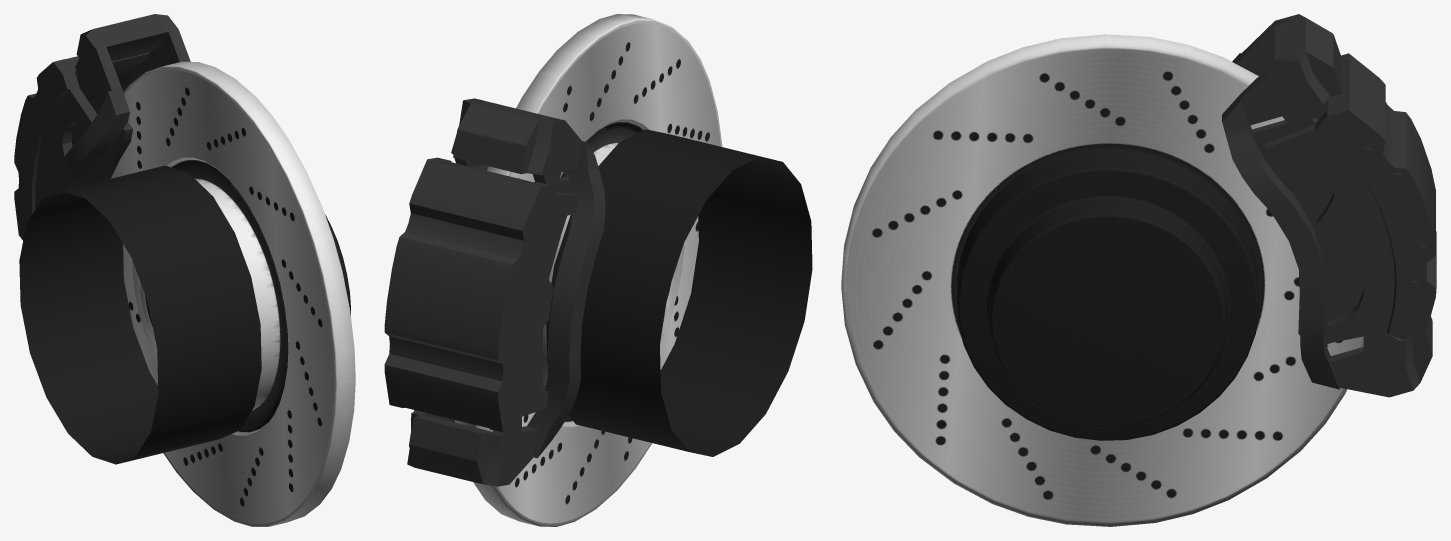
File: Brake Set.fbx
The picture shows the model from 3 angles, left to right: view 1: azimuth 30°, elevation 25°; view 2: azimuth 150°, elevation 25°; view 3: azimuth 270°, elevation 25°; orthographic projection. The views are drawn at different scales.
Visible parts, largest first — view 1: Brake Unity; view 2: Brake Unity; view 3: Brake Unity.
Part boxes in pixels (box(x1,y1,x2,y2)): Brake Unity: box(14, 14, 355, 526); Brake Unity: box(384, 14, 812, 526); Brake Unity: box(841, 14, 1436, 526).
Bounding box in the file's own units: 20.35 × 44.07 × 39.44.
